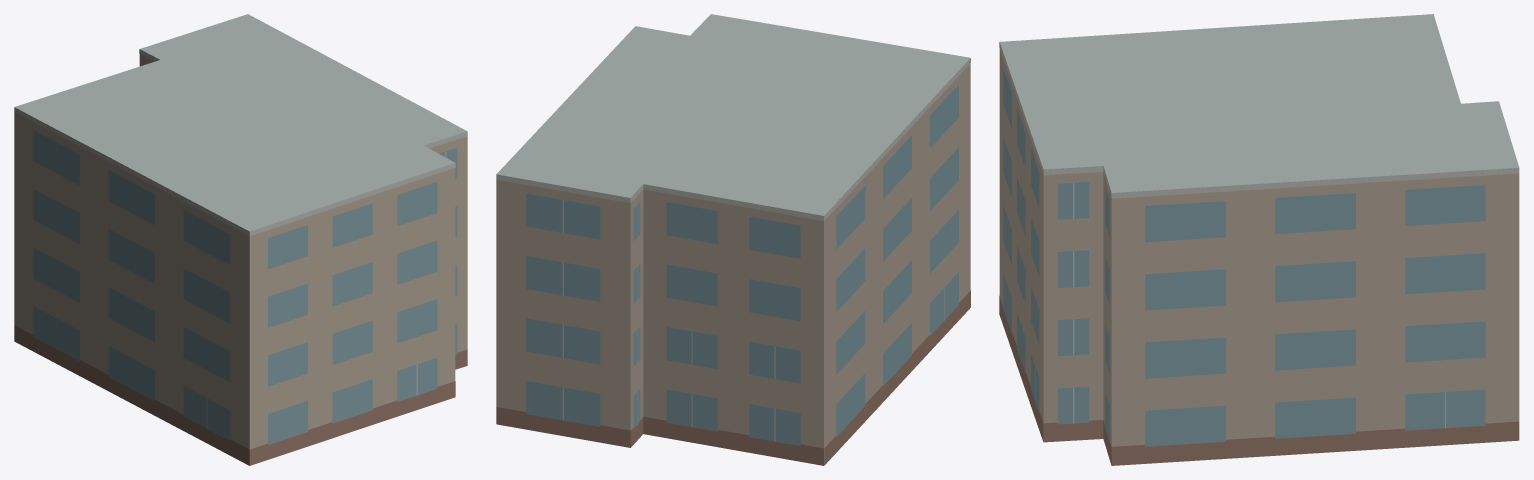
Rendered from survey-upis-32492066.glb.
3 views of the same model, side by side, from view 1: azimuth 30°, elevation 25°; view 2: azimuth 150°, elevation 25°; view 3: azimuth 270°, elevation 25° (orthographic). The views are drawn at different scales.
Parts seen in each view (by area): view 1: survey-upis-32492066.tmp; view 2: survey-upis-32492066.tmp; view 3: survey-upis-32492066.tmp.
Part boxes in pixels (x1,y1,x2,y2): survey-upis-32492066.tmp: [14, 14, 467, 465]; survey-upis-32492066.tmp: [496, 14, 970, 465]; survey-upis-32492066.tmp: [999, 14, 1519, 465].
Size of the model in its own units: 16.34 by 11.6 by 20.04.
